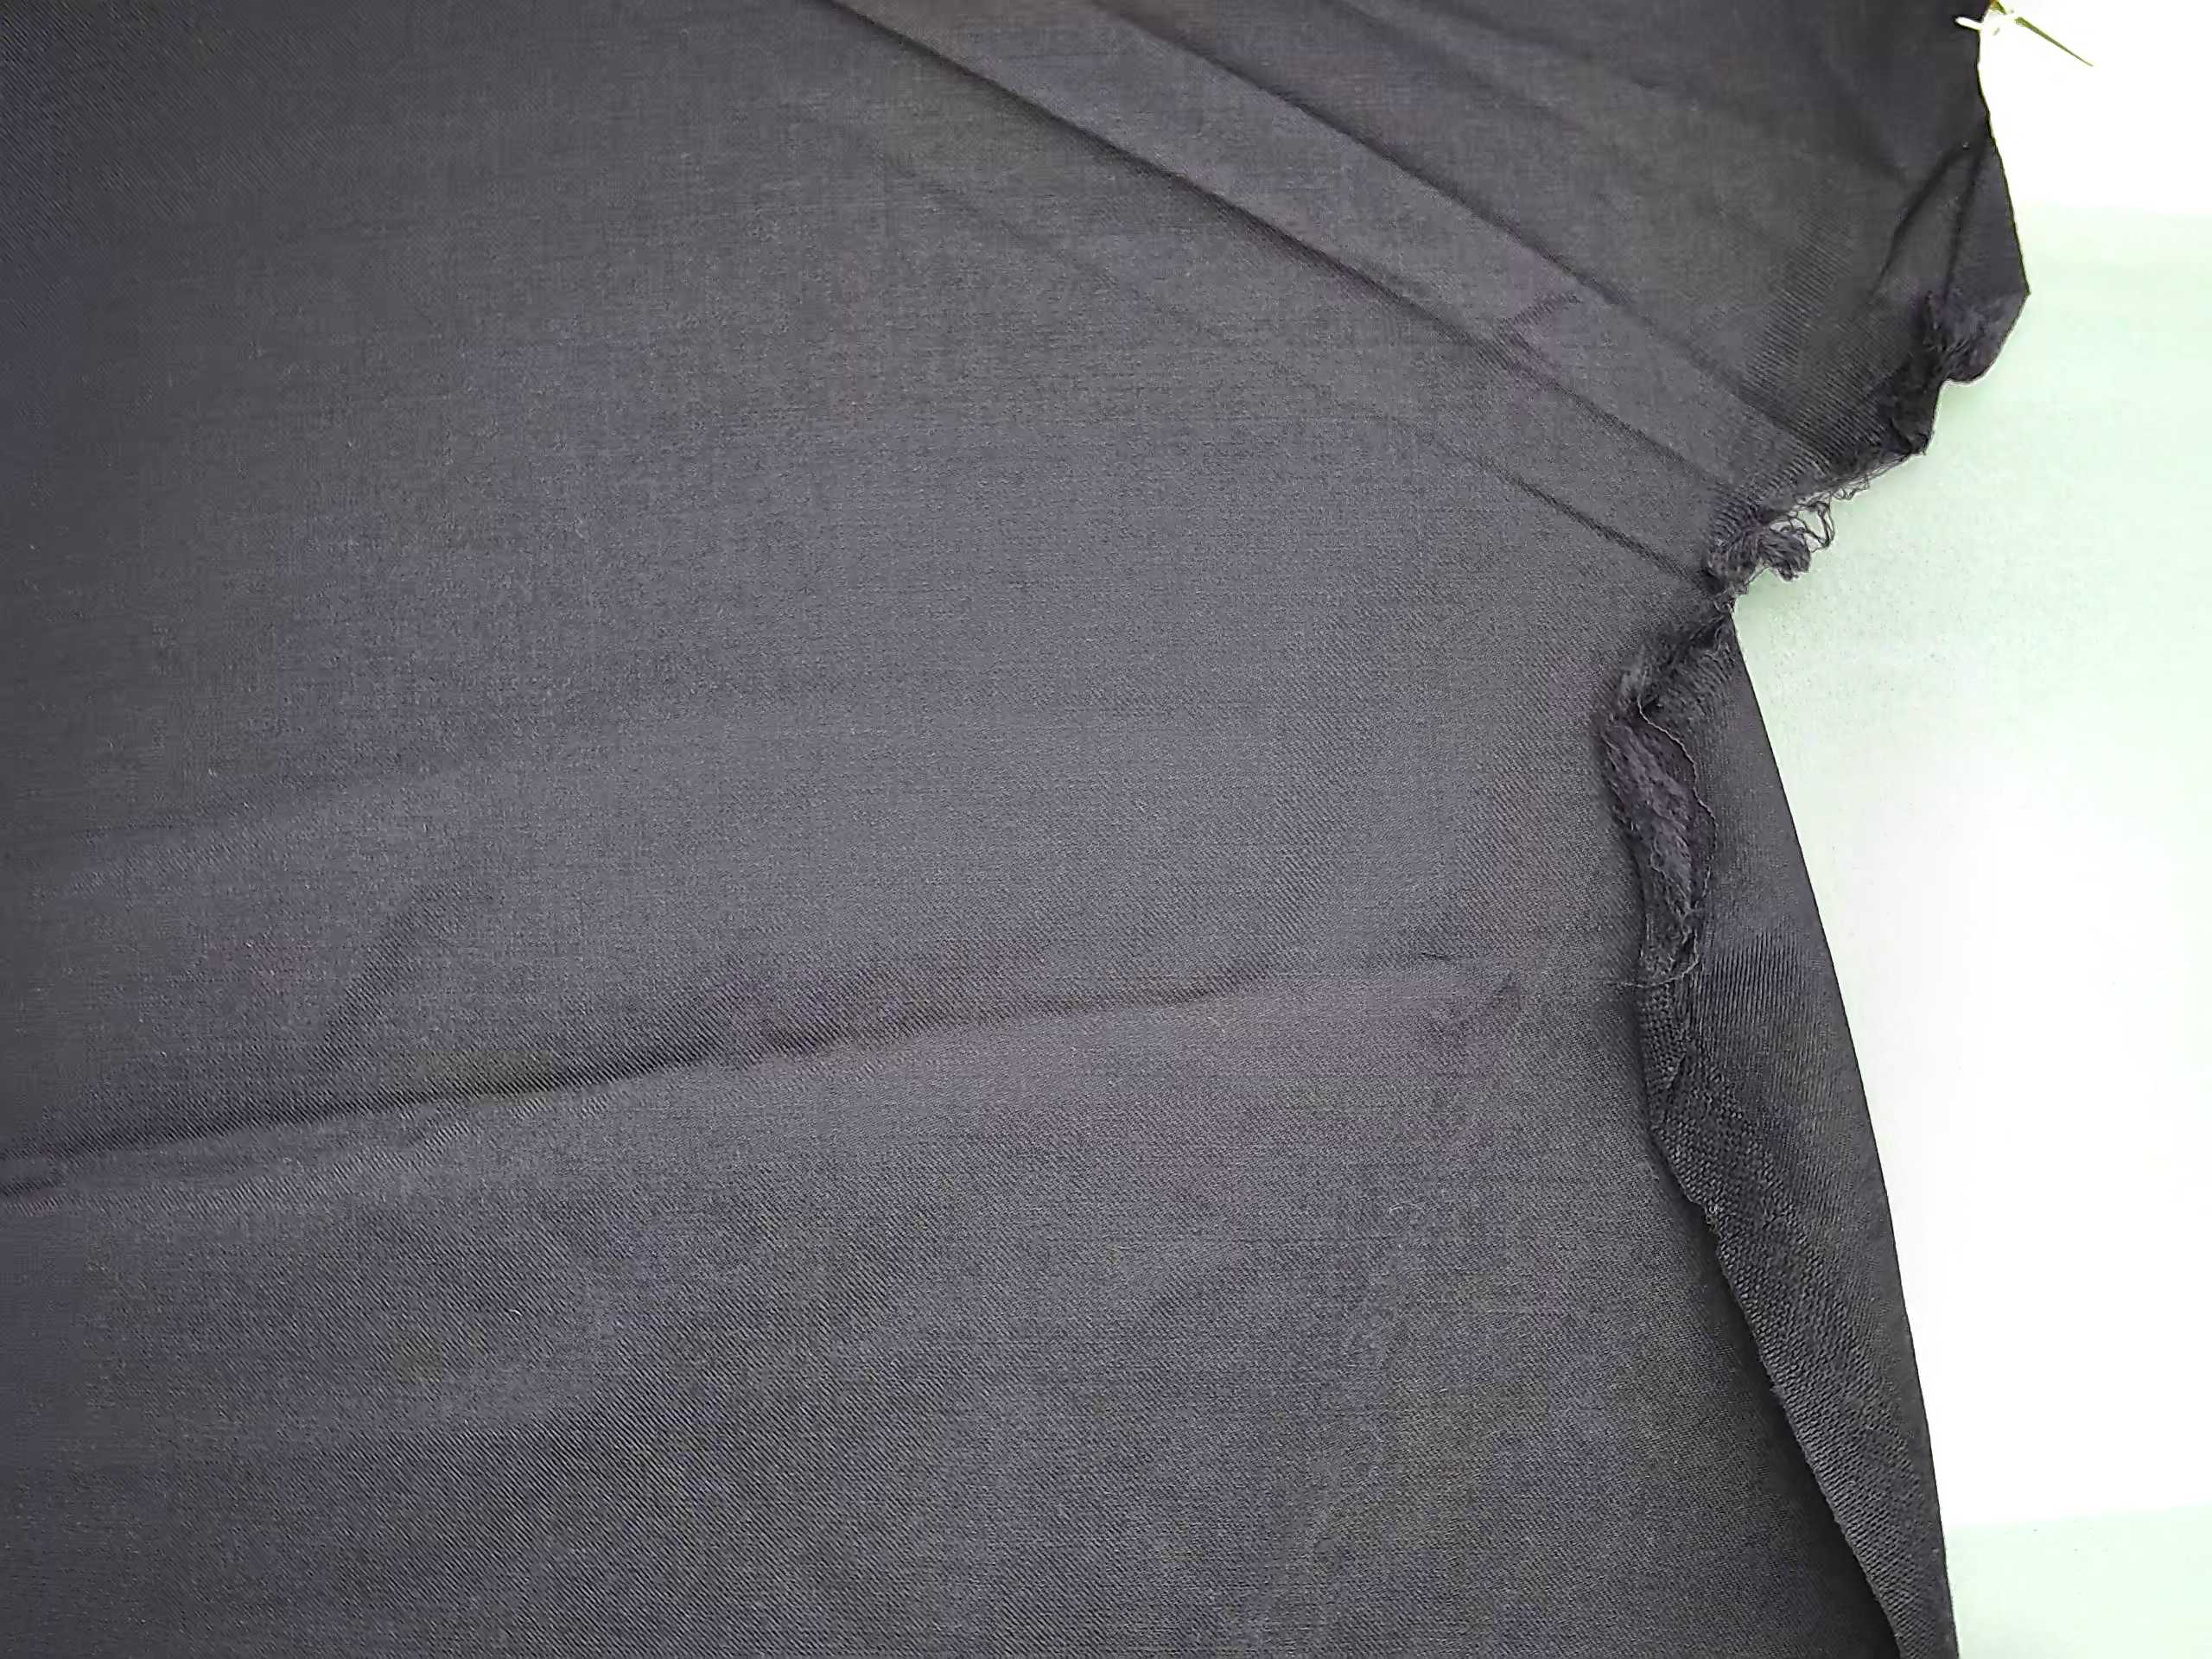others: (1559, 141, 2054, 1614)
